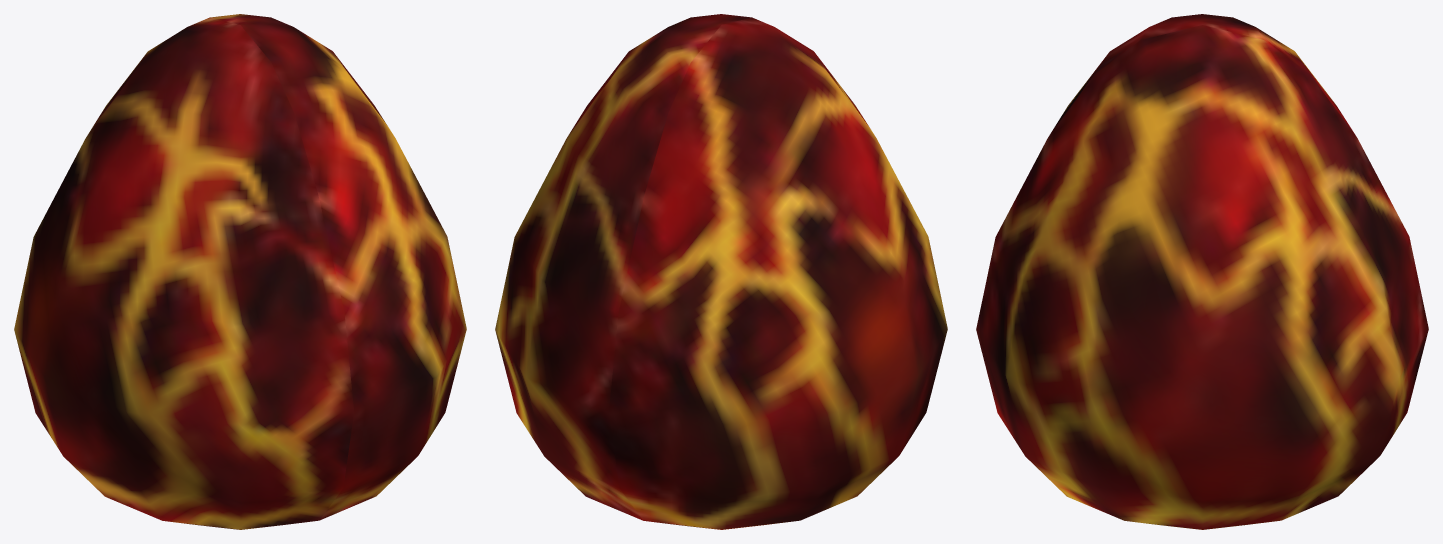
Rendered from SpawnerPlayerEnemy.fbx.
3 views of the same model, side by side, from view 1: azimuth 30°, elevation 25°; view 2: azimuth 150°, elevation 25°; view 3: azimuth 270°, elevation 25° (orthographic).
Parts seen in each view (by area): view 1: Spawner_aggressive; view 2: Spawner_aggressive; view 3: Spawner_aggressive.
Part boxes in pixels (box(x1,y1,x2,y2)): Spawner_aggressive: box(14, 14, 466, 529); Spawner_aggressive: box(495, 14, 947, 529); Spawner_aggressive: box(976, 14, 1428, 529).
Size of the model in its own units: 0.7514 by 0.8817 by 0.7514.
